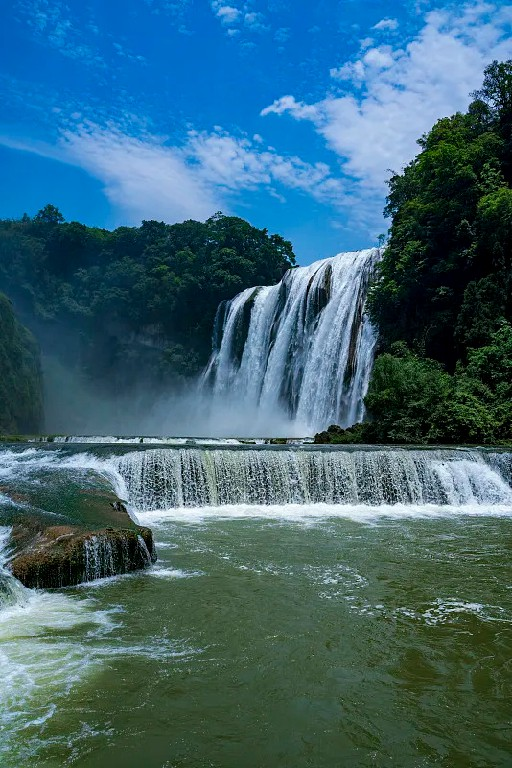Huangguoshu: (196, 244, 376, 437)
